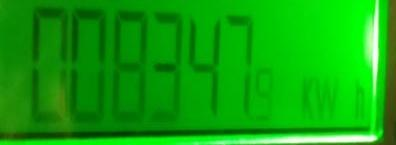.: (299, 75, 370, 126)
0: (250, 112, 256, 120)
1: (25, 6, 73, 124), (69, 8, 106, 123)
4: (150, 12, 183, 121)
5: (185, 17, 224, 117)
8: (227, 14, 252, 116)
9: (112, 9, 149, 121)
:: (254, 68, 279, 121)
